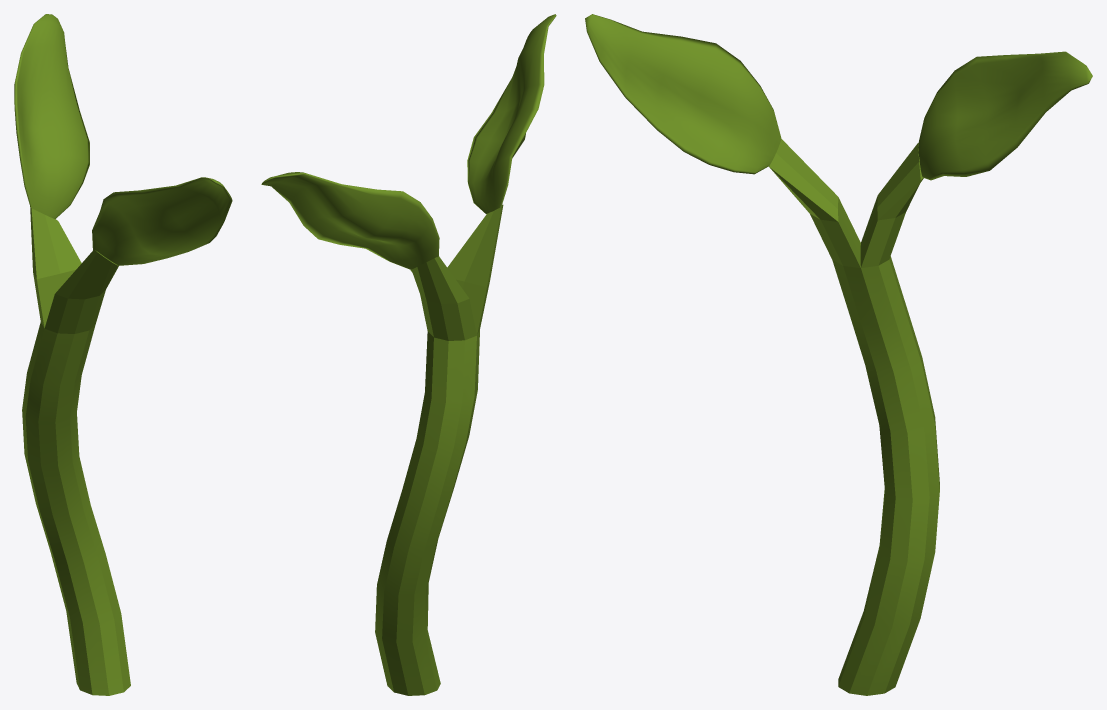
Rendered from SproutV2.obj.
The picture shows the model from 3 angles, left to right: view 1: azimuth 30°, elevation 25°; view 2: azimuth 150°, elevation 25°; view 3: azimuth 270°, elevation 25°; orthographic projection. The views are drawn at different scales.
Visible parts, largest first — view 1: pSphere8; view 2: pSphere8; view 3: pSphere8.
Boxes of the visible parts, <box> form: pSphere8: <box>14,14,232,695</box>; pSphere8: <box>261,14,556,695</box>; pSphere8: <box>585,14,1092,695</box>.
Size of the model in its own units: 0.0984 by 0.4585 by 0.3206.
1 material, 1 textured.
